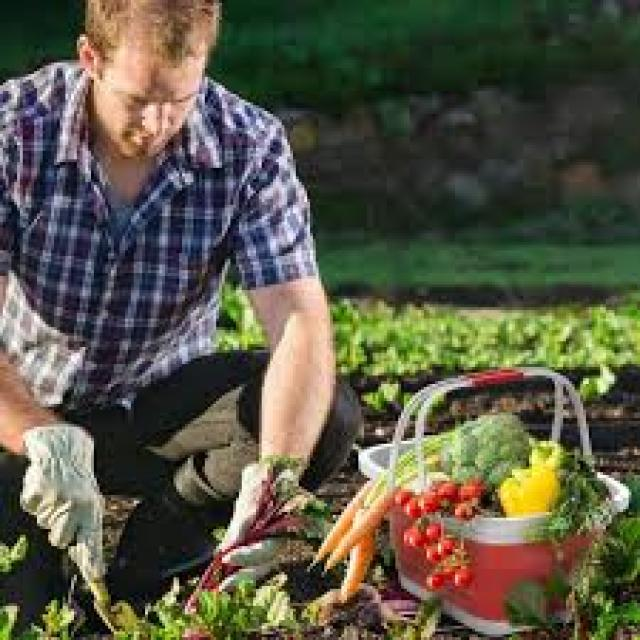basket: (384, 506, 604, 640)
